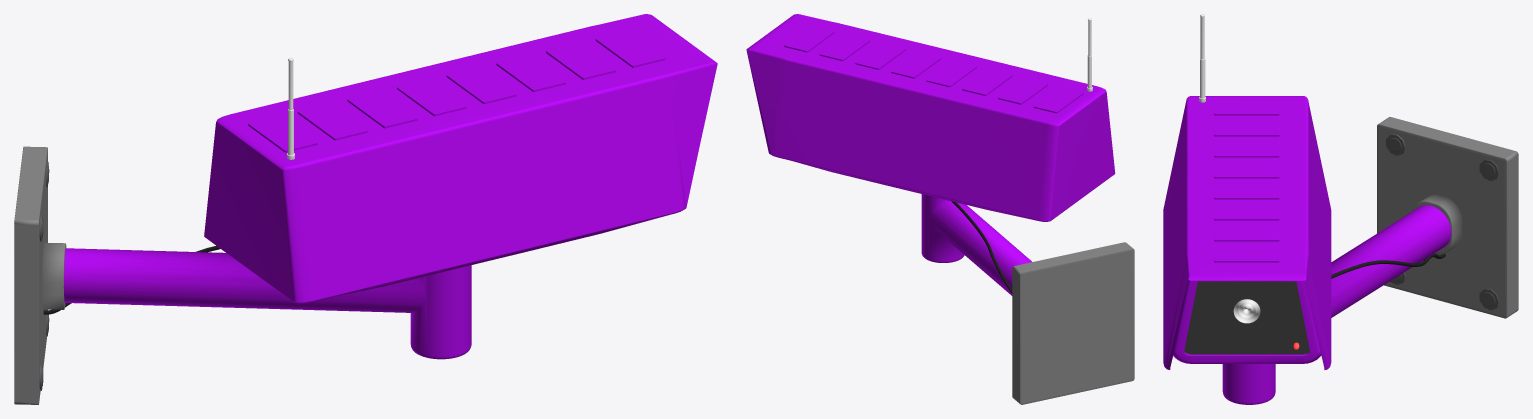
3 renders of one model, left to right at view 1: azimuth 30°, elevation 25°; view 2: azimuth 150°, elevation 25°; view 3: azimuth 270°, elevation 25°, orthographic. The views are drawn at different scales.
Visible parts, largest first — view 1: Cubo, Cilindro.002, Cubo.003, Cilindro; view 2: Cubo, Cubo.003, Cilindro.002, Curva Bezier; view 3: Cubo, Cubo.003, Cilindro.002, Cube.002, Cube.003, Cube.000, Curva Bezier, Cilindro, Cilindro.010, Cilindro.009, Cilindro.012.
Part boxes in pixels (x1,y1,x2,y2): Cubo: (204, 14, 717, 303); Cilindro.002: (63, 248, 471, 359); Cubo.003: (14, 146, 66, 404); Cilindro: (287, 57, 294, 159); Cubo: (746, 14, 1115, 221); Cubo.003: (1012, 242, 1134, 404); Cilindro.002: (921, 194, 1031, 295); Curva Bezier: (951, 201, 1012, 293); Cubo: (1163, 96, 1331, 369); Cubo.003: (1377, 117, 1518, 318); Cilindro.002: (1222, 205, 1451, 404); Cube.002: (1184, 281, 1309, 354); Cube.003: (1173, 281, 1321, 363); Cube.000: (1233, 299, 1260, 323); Curva Bezier: (1331, 253, 1445, 278); Cilindro: (1199, 14, 1205, 102); Cilindro.010: (1386, 134, 1405, 155); Cilindro.009: (1479, 159, 1498, 181); Cilindro.012: (1479, 288, 1498, 310).
Size of the model in its own units: 9.59 by 5.97 by 5.77.
